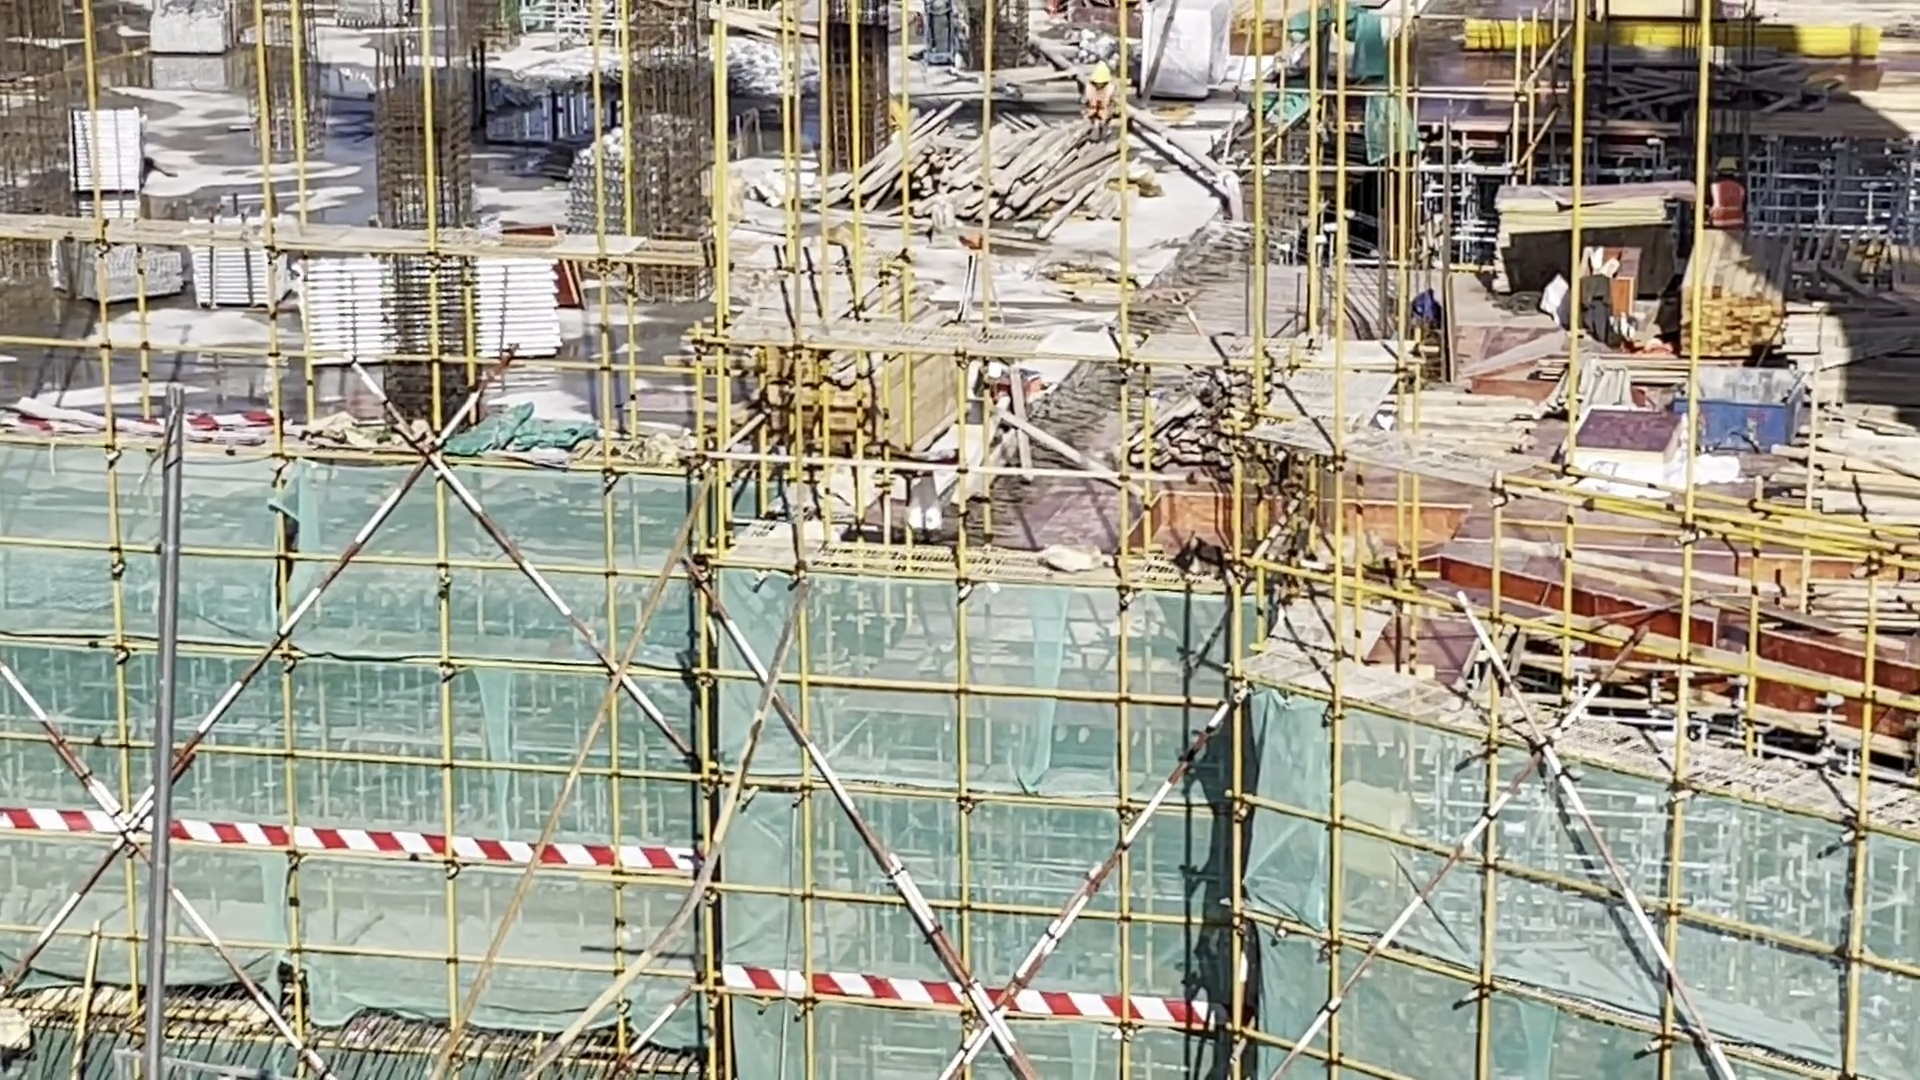helmet: (977, 357, 1005, 388), (1086, 64, 1114, 82)
hopper: (1695, 360, 1826, 478)
person: (968, 353, 1050, 425), (1079, 51, 1118, 138)
scaffold: (297, 259, 606, 386), (185, 216, 296, 297)
vest: (1082, 87, 1111, 128)
wood: (859, 127, 1078, 248), (735, 347, 948, 460), (1670, 215, 1803, 386), (1780, 404, 1920, 531)
